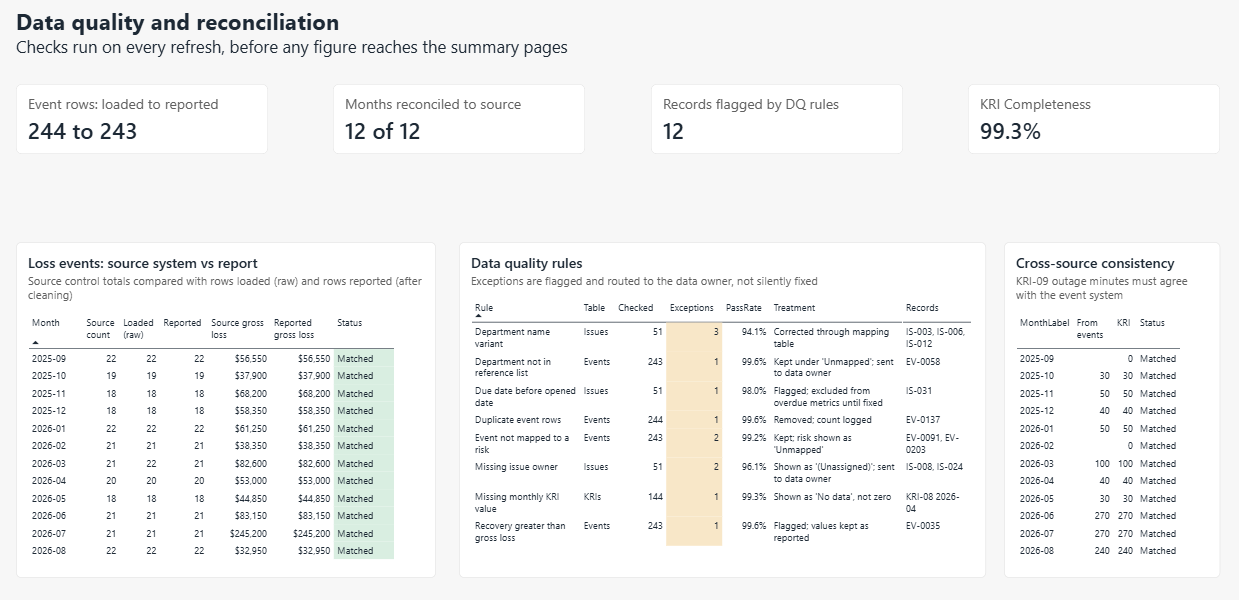

The dashboard page shown, as its layout file describes it:
{"tool":"powerbi","page":{"name":"Data quality","canvas":[1920,1080],"ordinal":4},"visuals":[{"type":"textbox","box":[85.7,157.1,1720,97.1],"z":0},{"type":"cardVisual","fields":{"Data":["_Measures.Events Loaded vs Reported"]},"box":[85.7,281.4,360,100],"z":1000},{"type":"cardVisual","fields":{"Data":["_Measures.Recon Card"]},"box":[539,281.4,360,100],"z":2000},{"type":"cardVisual","fields":{"Data":["_Measures.DQ Records Flagged"]},"box":[992.4,281.4,360,100],"z":3000},{"type":"cardVisual","fields":{"Data":["_Measures.KRI Completeness"]},"box":[1445.7,281.4,360,100],"z":4000},{"type":"tableEx","title":"Loss events: source system vs report","fields":{"Values":["Dim_Date.MonthLabel","_Measures.Recon Source Count","_Measures.Recon Raw Count","_Measures.Event Count","_Measures.Recon Source Gross","_Measures.Gross Loss","_Measures.Recon Status"]},"box":[85.7,507.1,600,480],"z":5000},{"type":"tableEx","title":"Data quality rules","fields":{"Values":["DQ_Summary.Rule","DQ_Summary.SourceTable","DQ_Summary.Checked","DQ_Summary.Exceptions","DQ_Summary.PassRate","DQ_Summary.Treatment","DQ_Summary.Records"]},"box":[718.6,507.1,752.9,480],"z":6000},{"type":"tableEx","title":" Cross-source consistency","fields":{"Values":["Dim_Date.MonthLabel","_Measures.Outage Minutes (Events)","_Measures.Outage Minutes (KRI)","_Measures.Outage Check"]},"box":[1497.1,507.1,308.6,480],"z":7000}]}

Visuals, with their boxes on the page's 1920x1080 design canvas (x1, y1, x2, y2). These are canvas units, not pixel positions in the 1239x600 screenshot, which may show the page scaled, cropped or inside an application window:
textbox: <region>86, 157, 1806, 254</region>
cardVisual - _Measures.Events Loaded vs Reported: <region>86, 281, 446, 381</region>
cardVisual - _Measures.Recon Card: <region>539, 281, 899, 381</region>
cardVisual - _Measures.DQ Records Flagged: <region>992, 281, 1352, 381</region>
cardVisual - _Measures.KRI Completeness: <region>1446, 281, 1806, 381</region>
"Loss events: source system vs report" tableEx: <region>86, 507, 686, 987</region>
"Data quality rules" tableEx: <region>719, 507, 1472, 987</region>
" Cross-source consistency" tableEx: <region>1497, 507, 1806, 987</region>
